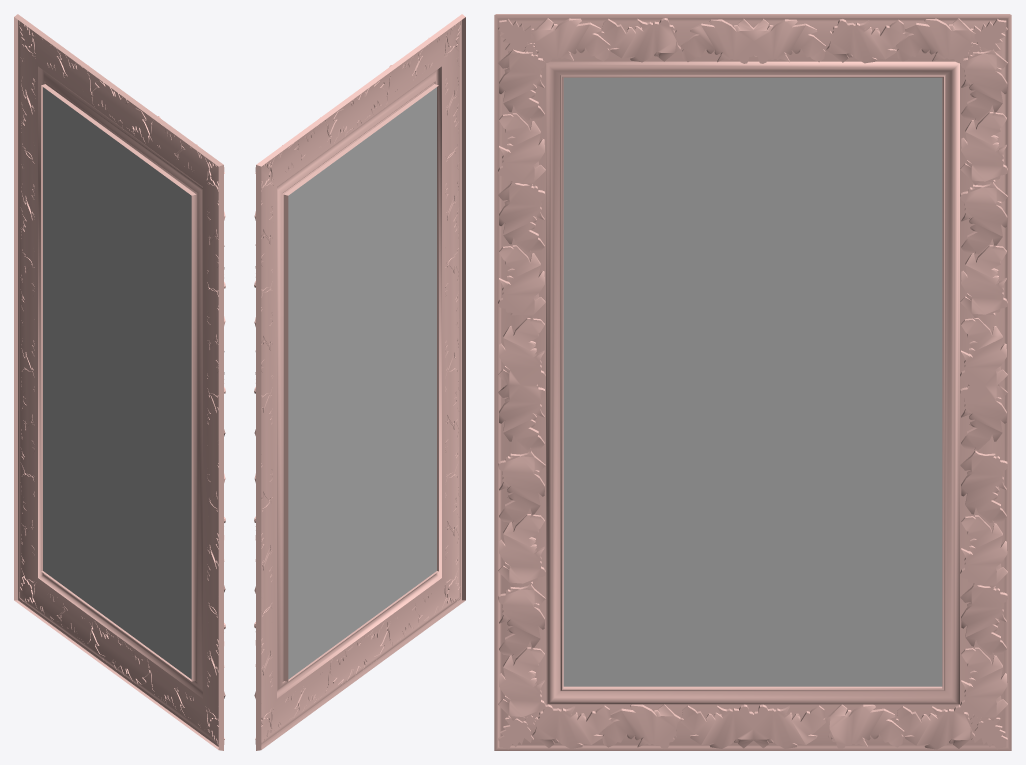
The model's file is picture.fbx.
3 views of the same model, side by side, from view 1: azimuth 30°, elevation 25°; view 2: azimuth 150°, elevation 25°; view 3: azimuth 270°, elevation 25° (orthographic). The views are drawn at different scales.
Visible parts, largest first — view 1: Frame; view 2: Frame; view 3: Frame.
Part boxes in pixels (<box>): Frame: <box>14,14,225,750</box>; Frame: <box>254,14,465,750</box>; Frame: <box>494,14,1011,750</box>.
Size of the model in its own units: 0.7511 by 1.18 by 0.0168.
